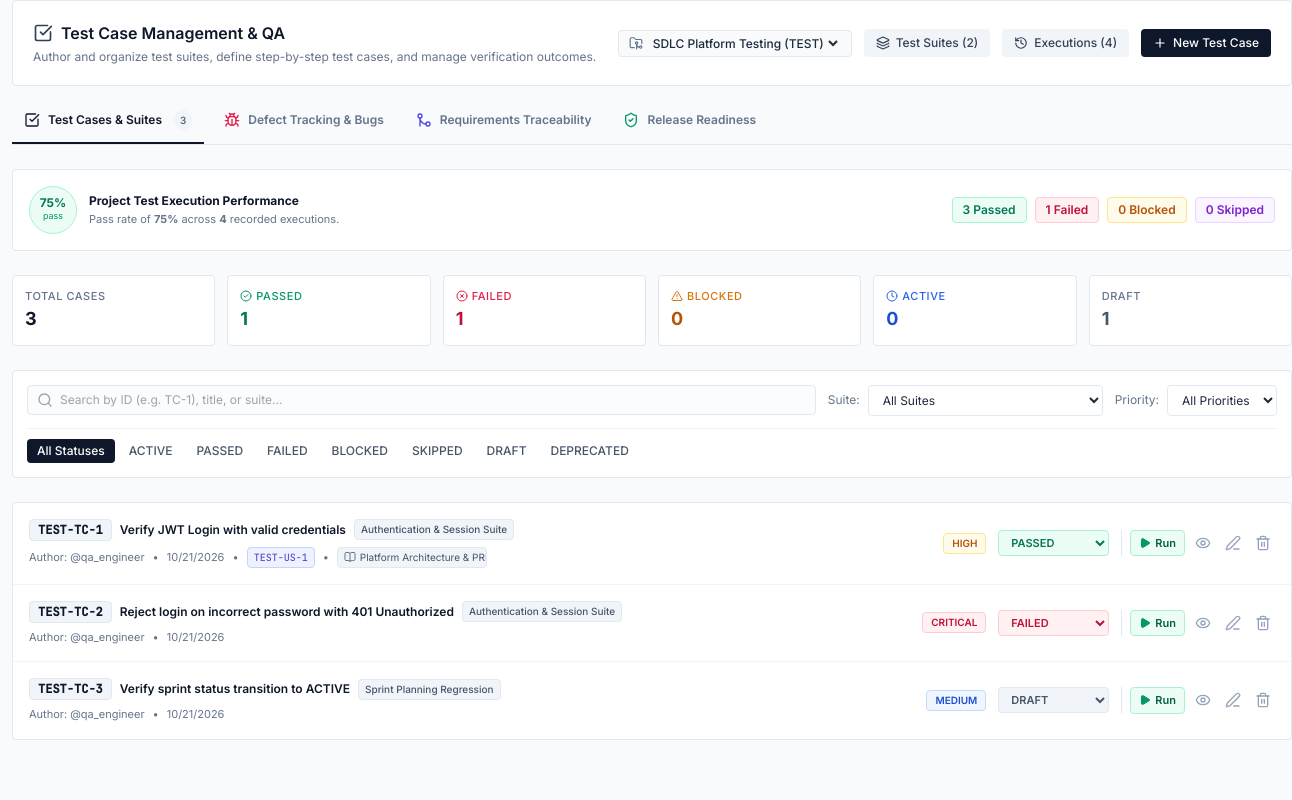
Test case: Phase 5: Test Case Management Components › filters test cases by suite and search query
Expected: the text "TEST-TC-1" is shown, [29,518,112,540]
Filter by search query
Type "sprint status" into the field with placeholder "Search by ID (e.g. TC-1), title, or suite..." at (421, 400), box [27,385,816,415]
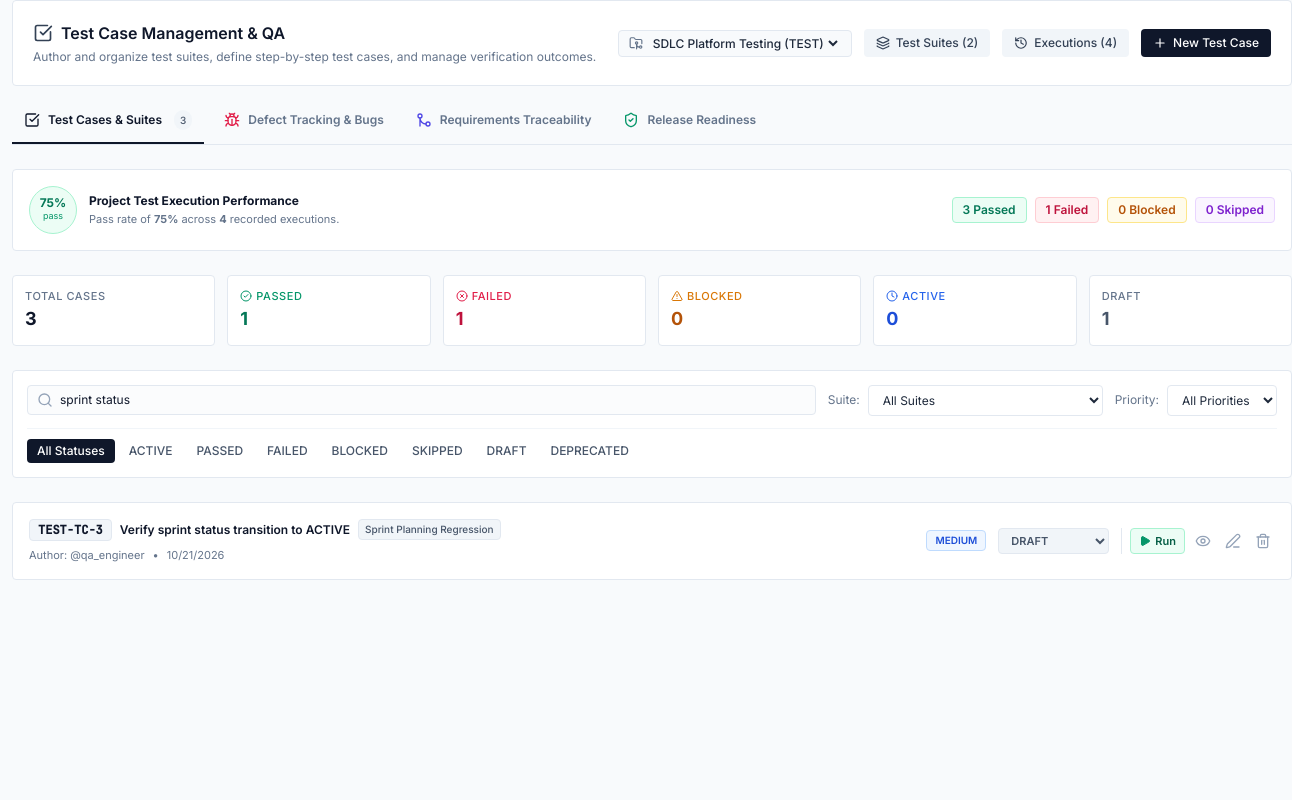
Expected: the text "TEST-TC-3" is shown, [29,518,112,540]
Now the text "TEST-TC-1" is gone
Now the text "TEST-TC-2" is gone
Clear search
Clear the field with placeholder "Search by ID (e.g. TC-1), title, or suite..." at (421, 400), box [27,385,816,415]
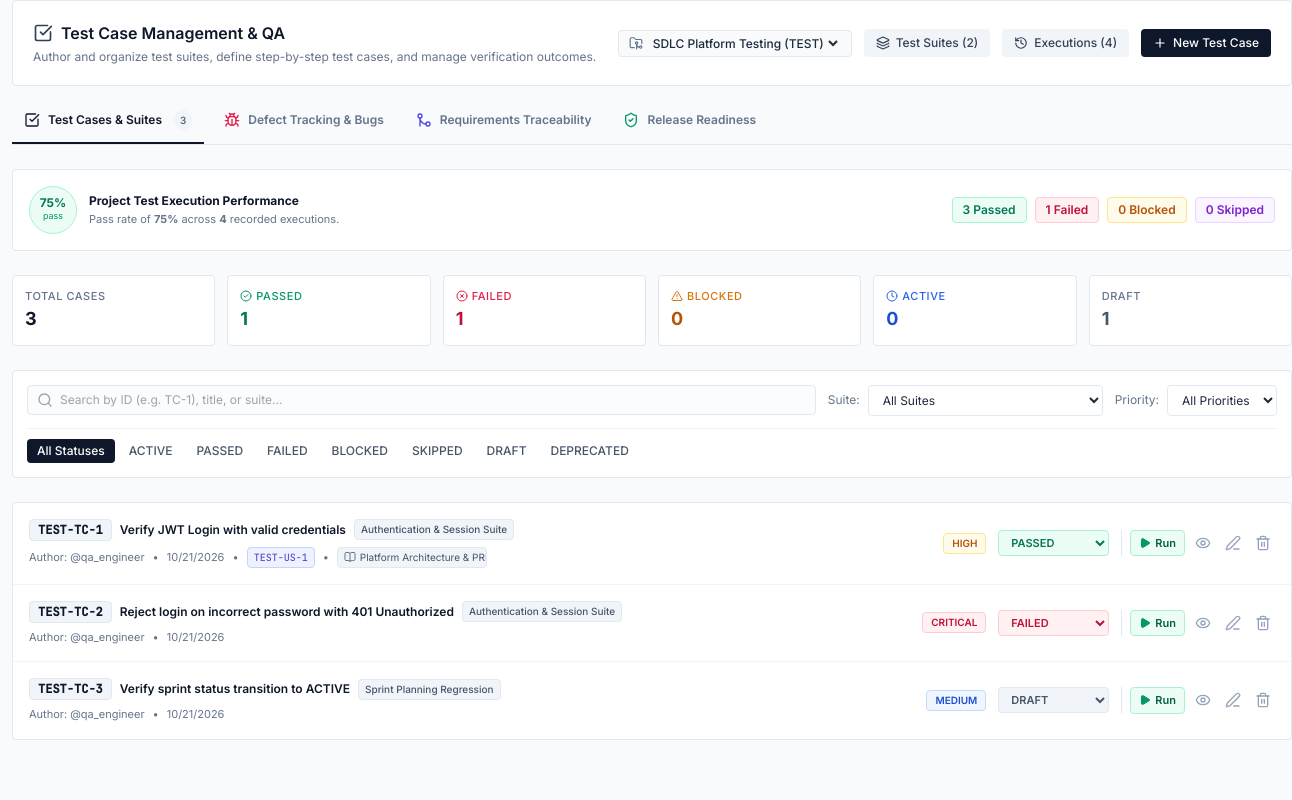
Now the text "TEST-TC-1" is shown, box [29,518,112,540]
Filter by Suite
Select "Sprint Planning Regression (1)" in the dropdown labelled "Suite:" at (985, 400), box [868,384,1103,416]
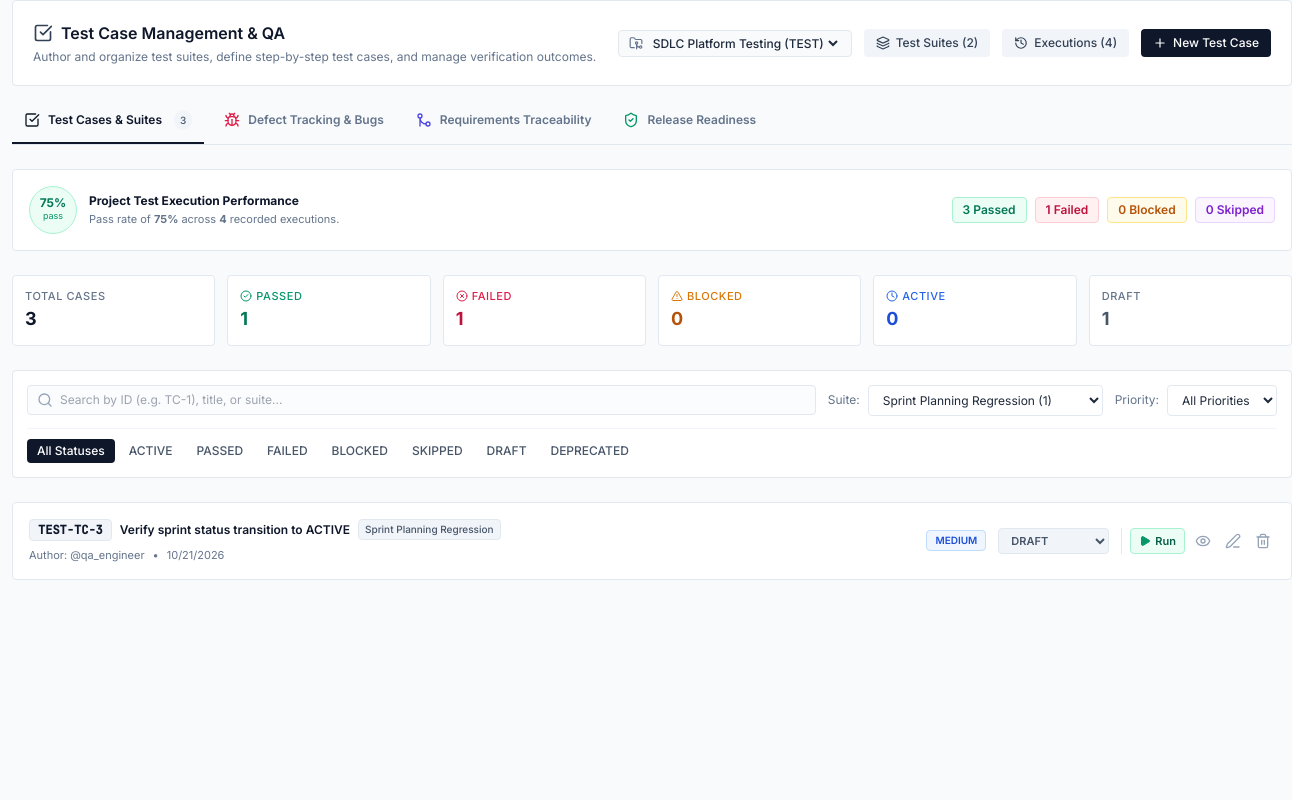
Expected: the text "TEST-TC-3" is shown, [29,518,112,540]
Now the text "TEST-TC-1" is gone
